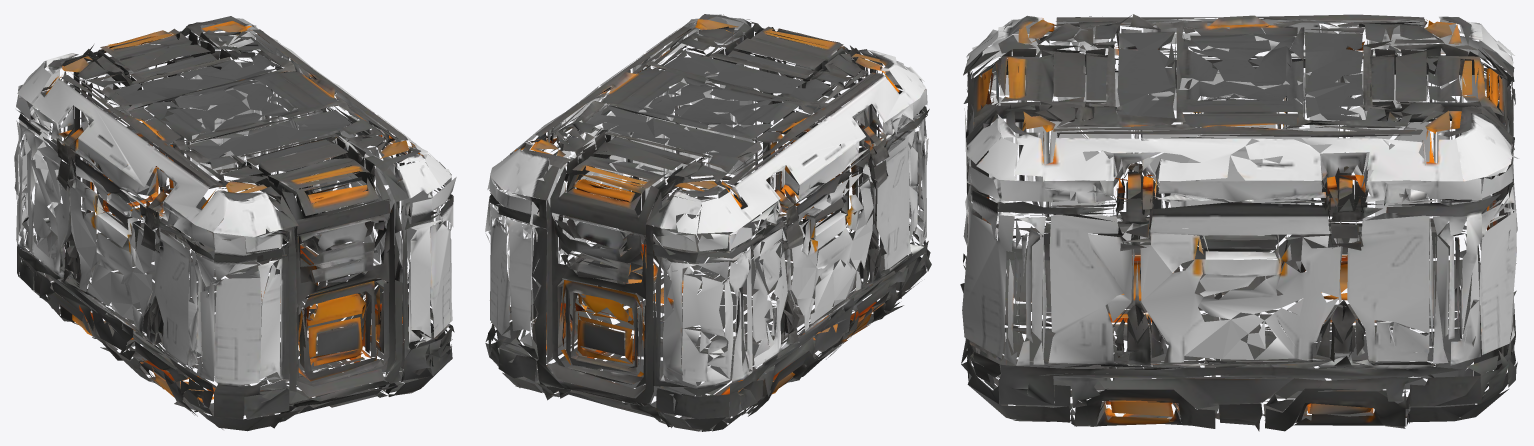
Rendered from OrangeBox.glb.
3 renders of one model, left to right at view 1: azimuth 30°, elevation 25°; view 2: azimuth 150°, elevation 25°; view 3: azimuth 270°, elevation 25°, orthographic. The views are drawn at different scales.
Parts seen in each view (by area): view 1: Orangebox; view 2: Orangebox; view 3: Orangebox.
Part boxes in pixels (left/top/right/bottom): Orangebox: left=14, top=16, right=456, bottom=431; Orangebox: left=485, top=14, right=931, bottom=431; Orangebox: left=960, top=14, right=1518, bottom=431.
Bounding box in the file's own units: 4.1 × 3.7 × 6.11.
1 material, 1 textured.
